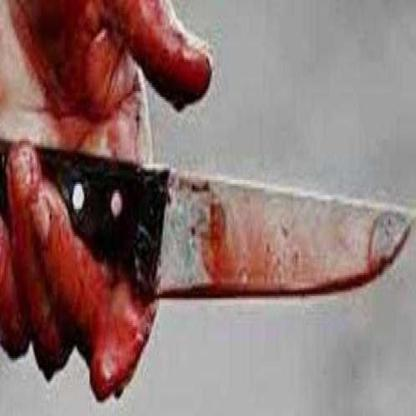Knife: (12, 120, 416, 323)
